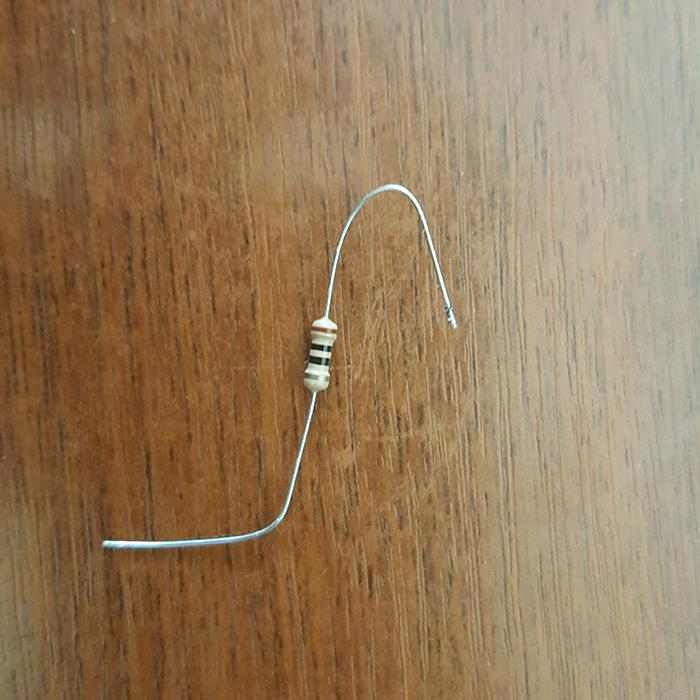resistor: (303, 316, 338, 391)
